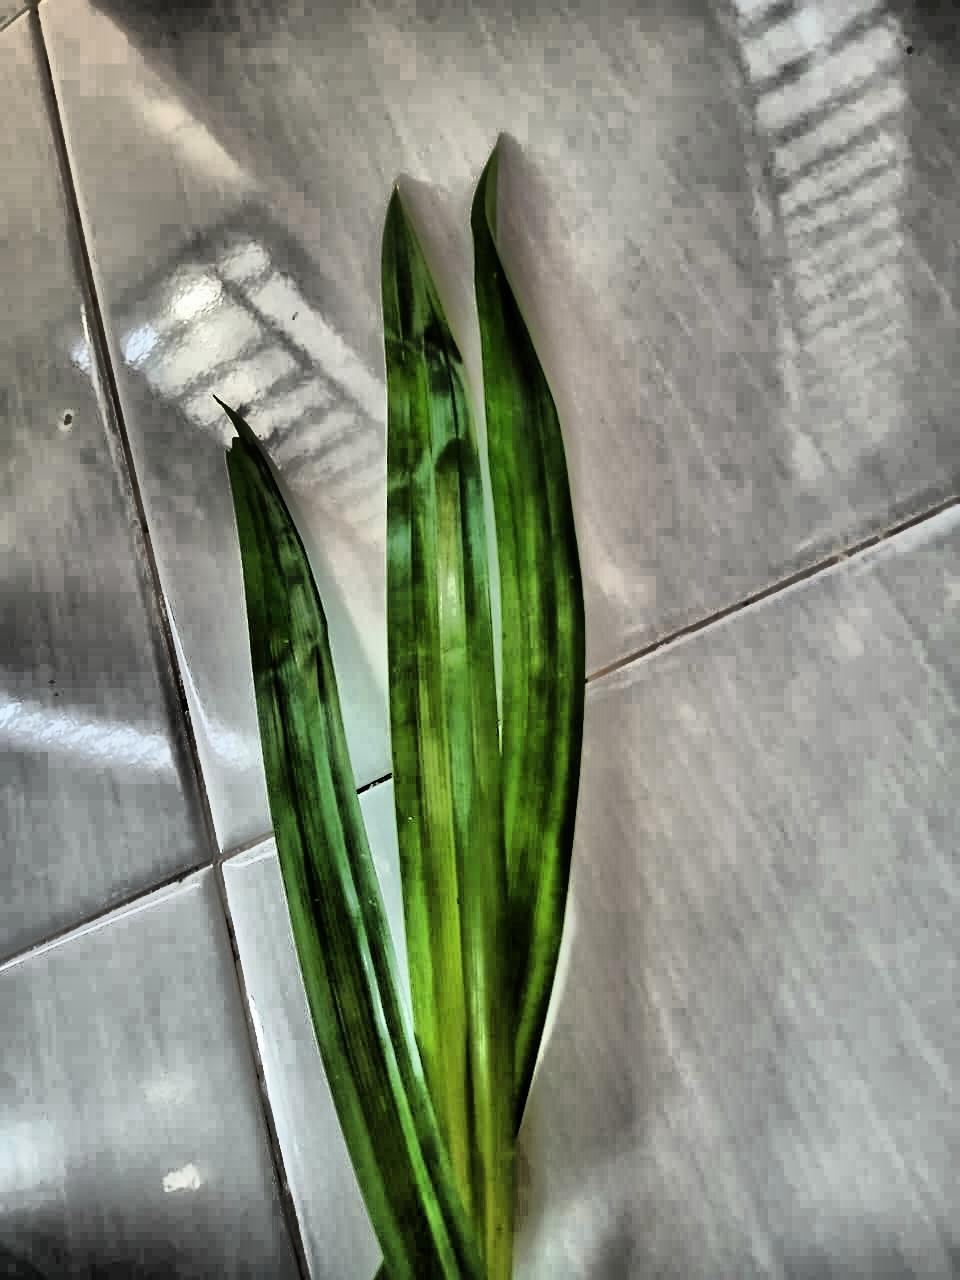daun pandan: (221, 148, 585, 1279)
